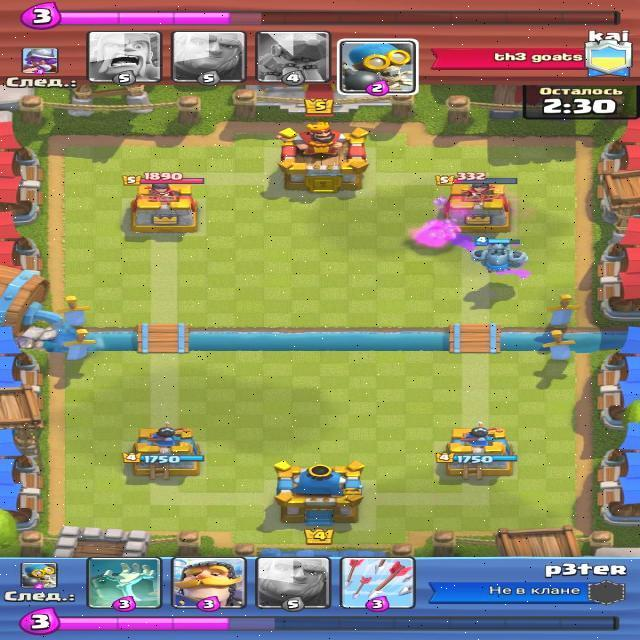EKingTower: (277, 130, 376, 201)
EnemyPrincessTower: (128, 180, 205, 241), (447, 192, 517, 236)
OMegam: (468, 238, 537, 280)
OwnKingTower: (266, 472, 379, 528)
OwnPrincessTower: (436, 438, 520, 483), (127, 434, 205, 478)
